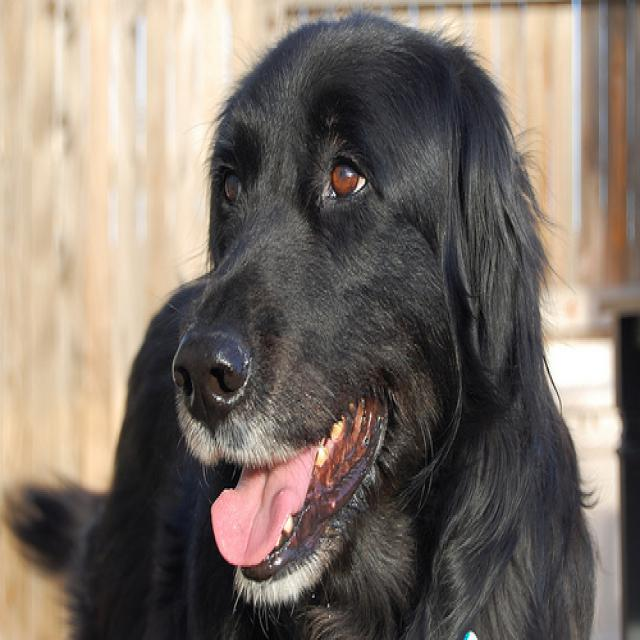dog-newfoundland: (13, 4, 596, 636)
